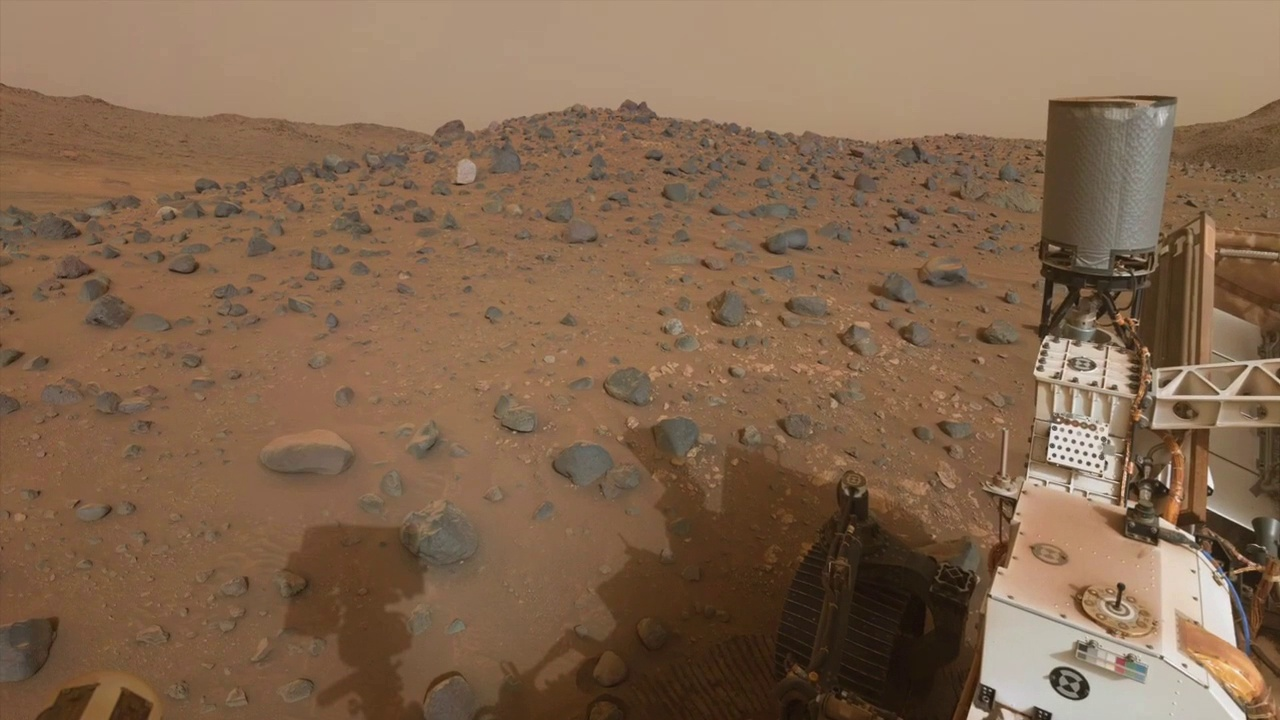rock: (551, 446, 614, 500), (868, 273, 921, 313), (603, 376, 650, 407), (707, 292, 747, 327), (1101, 583, 1136, 622), (911, 427, 952, 456), (776, 415, 817, 441), (975, 325, 1020, 345), (784, 298, 831, 317), (836, 326, 866, 355), (935, 421, 976, 440), (897, 323, 928, 348)
